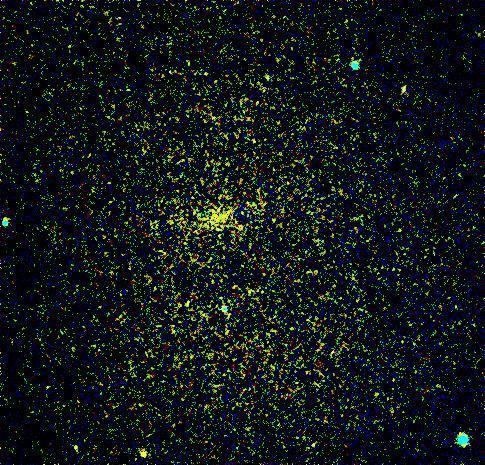star: (128, 440, 158, 465)
